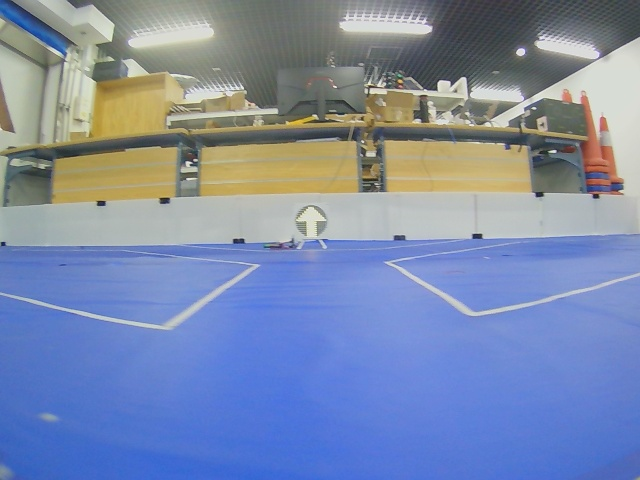straight_yellow: (295, 205, 327, 238)
